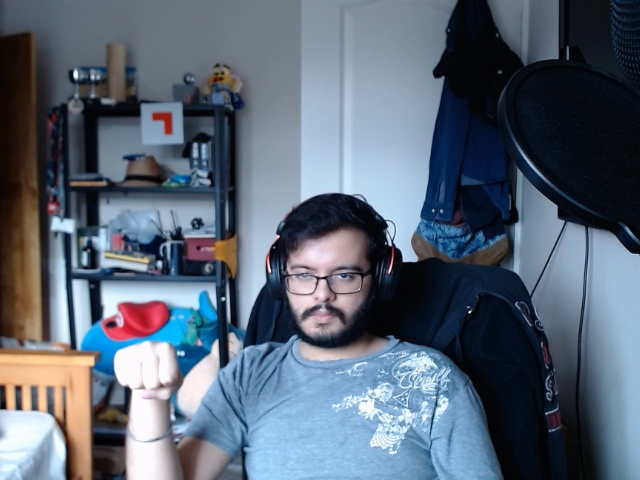Yes: (111, 334, 185, 409)
